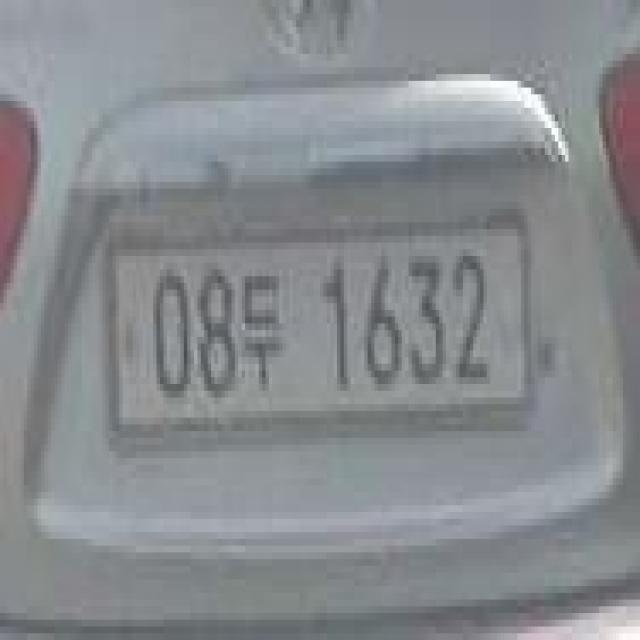illegal_plate: (111, 217, 534, 447)
